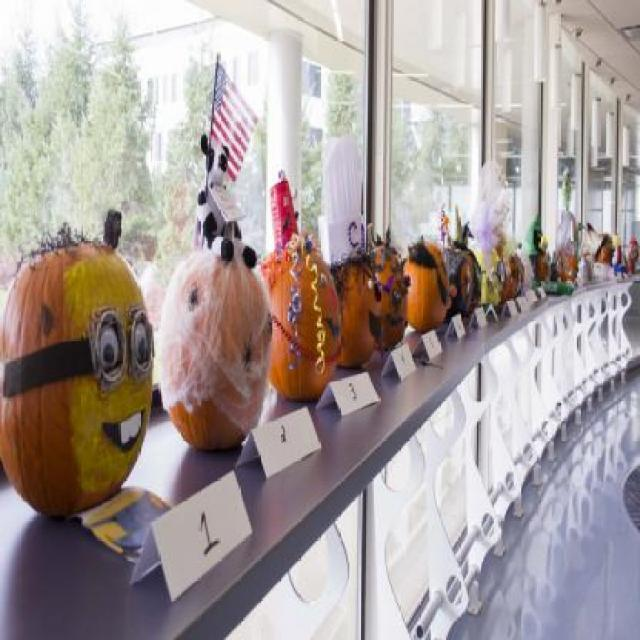Pumpkin: (0, 216, 154, 522), (157, 223, 277, 454), (255, 236, 343, 399), (328, 255, 382, 376), (404, 234, 453, 340), (369, 241, 411, 354), (437, 243, 472, 314), (463, 241, 482, 314), (480, 246, 502, 303), (556, 236, 579, 286), (504, 243, 524, 300), (494, 244, 509, 306), (514, 248, 534, 294), (533, 251, 552, 286), (596, 232, 612, 272), (626, 236, 640, 270), (613, 230, 624, 270)
